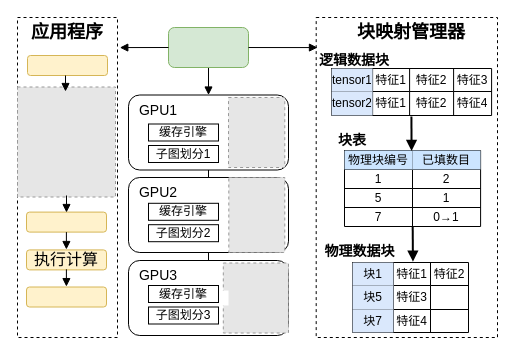
The diagram is 515 pixels wide and 355 high, and some of its shapes have lost their labels. Grey dashed boxes stand in for pictures. Here are the shapes that lost their labels. From the top down, the centre of each, then its label:
the point at 67,65: 输入数据
the point at 208,47: 调度器
the point at 66,221: 显存分配
the point at 66,296: 显存释放
